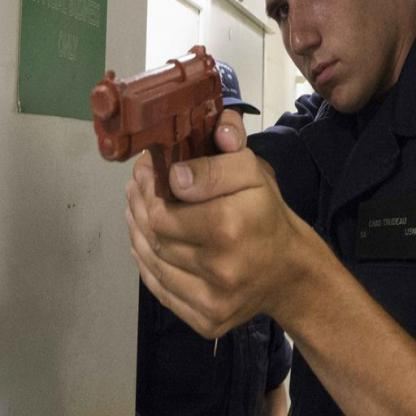gun: (91, 43, 226, 204)
